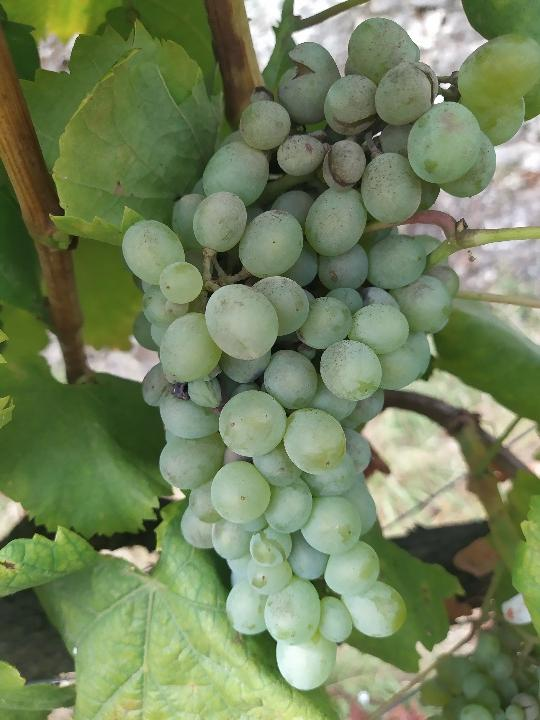grape: (118, 15, 499, 693)
